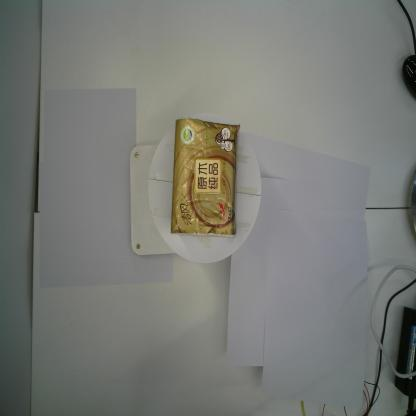Tissue: (171, 118, 240, 238)
